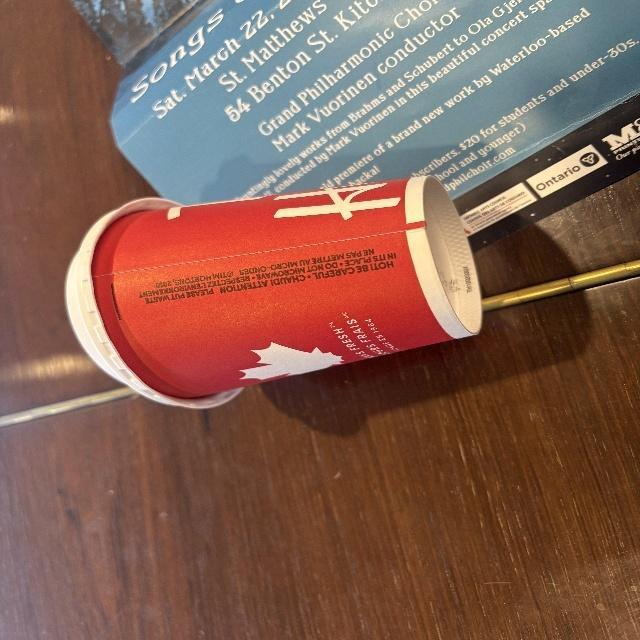timmies: (57, 170, 487, 412)
